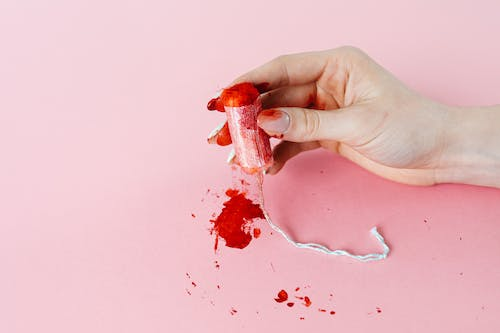blood: (183, 165, 383, 322), (205, 86, 327, 147), (220, 81, 275, 175)
